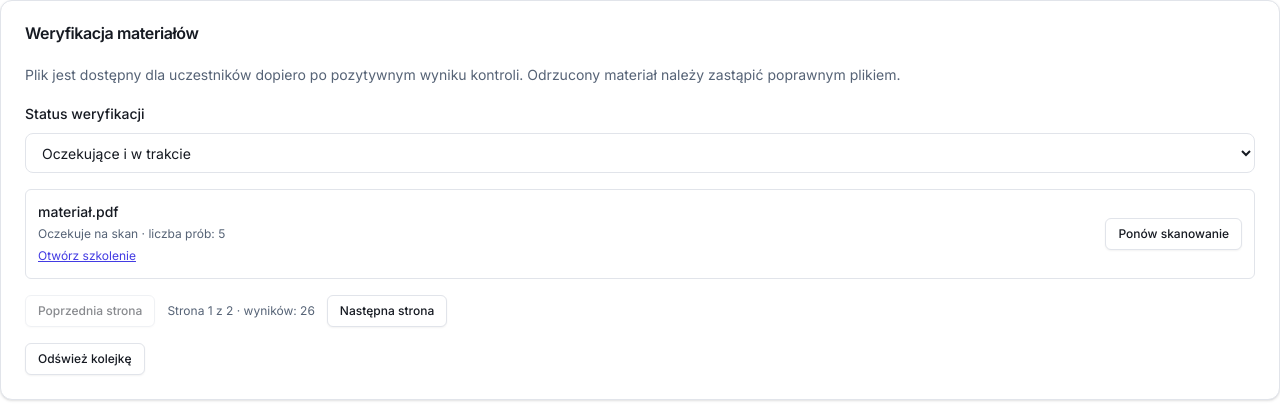
Test: scan queue interaction › returns to the last valid page when retry removes its final item
Expected: the text "materiał.pdf" is shown, [38, 203, 119, 220]
Click the button "Następna strona": (387, 311) [327, 295, 447, 327]
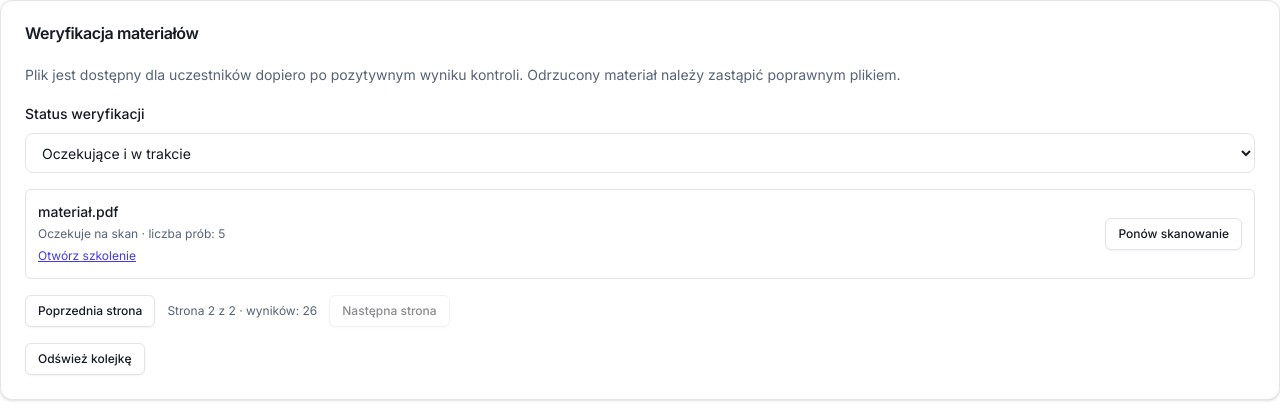
Expected: the text "Strona 2 z 2 · wyników: 26" is shown, [167, 303, 317, 319]
Click the button "Ponów skanowanie": (1174, 234) [1105, 218, 1242, 250]
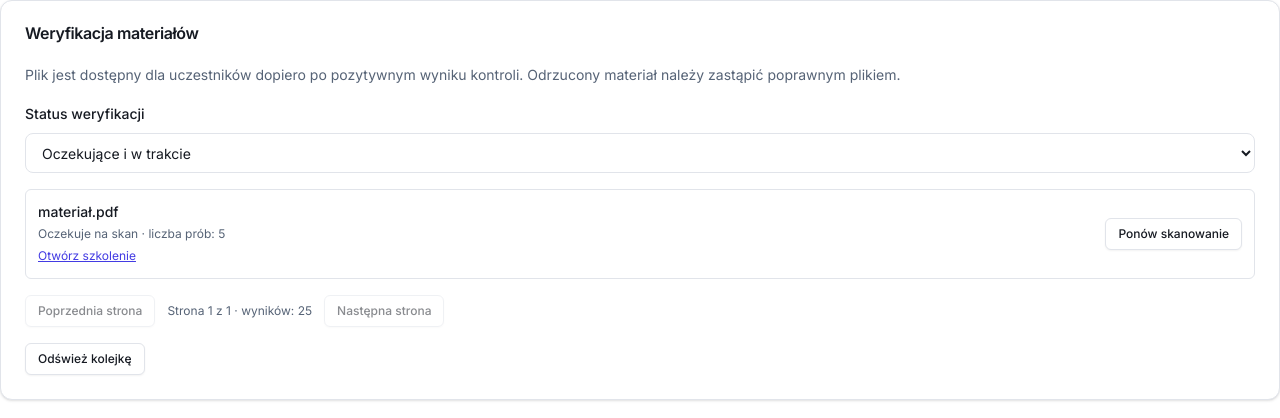
Expected: the text "Strona 1 z 1 · wyników: 25" is shown, [167, 303, 312, 319]
